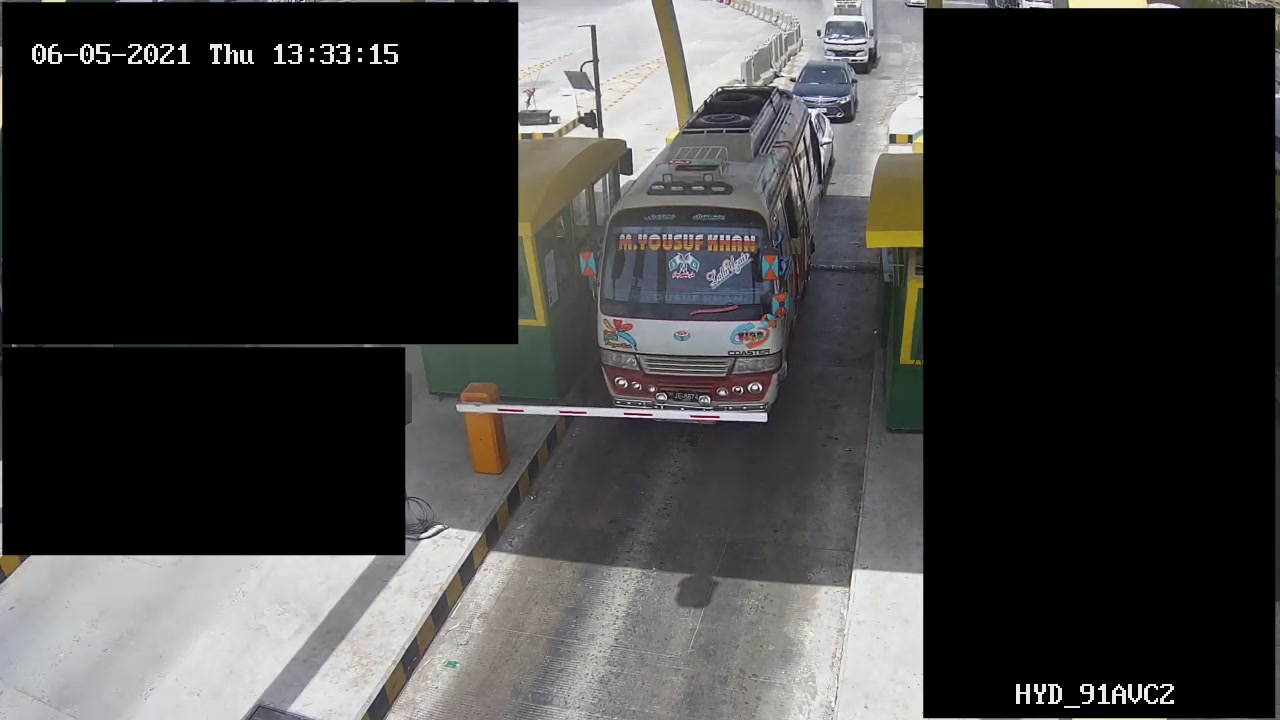F4: (584, 87, 812, 432)
